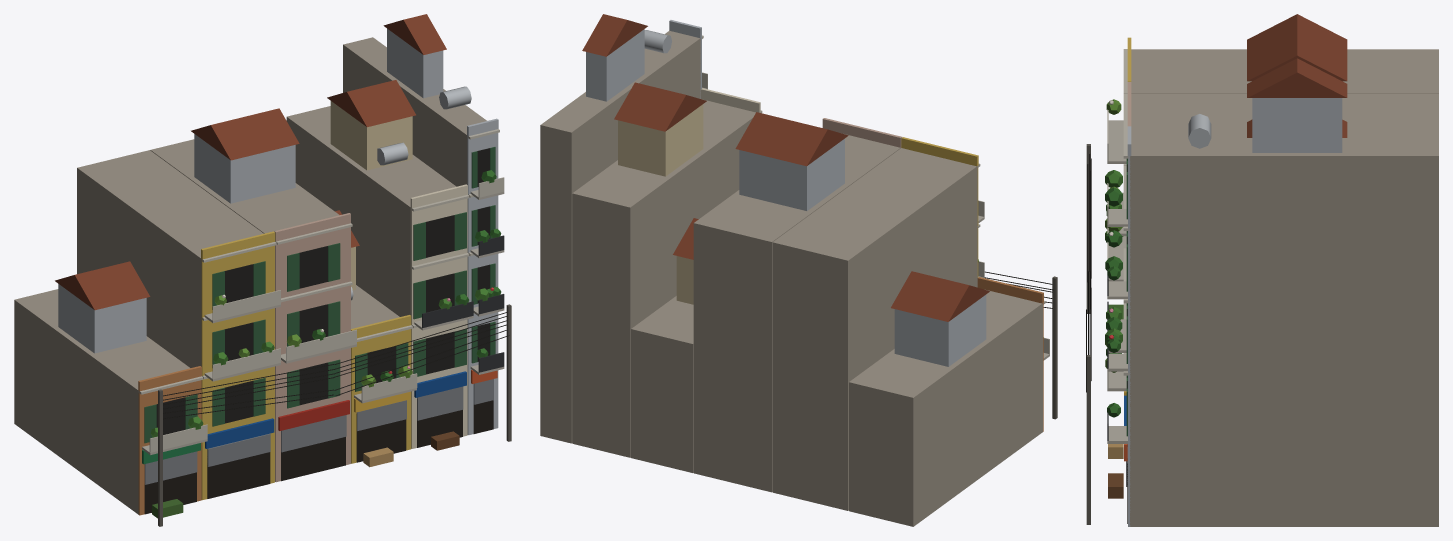
Rendered from hanoi_tube_houses_b.glb.
The picture shows the model from 3 angles, left to right: view 1: azimuth 30°, elevation 25°; view 2: azimuth 150°, elevation 25°; view 3: azimuth 270°, elevation 25°; orthographic projection. The views are drawn at different scales.
Visible parts, largest first — view 1: HanoiTubeHouses_mat0; view 2: HanoiTubeHouses_mat0; view 3: HanoiTubeHouses_mat0.
Boxes of the visible parts, x1,y1,x2,y2 form: HanoiTubeHouses_mat0: (14,14,511,526); HanoiTubeHouses_mat0: (540,14,1057,526); HanoiTubeHouses_mat0: (1086,14,1438,526).
Size of the model in its own units: 19.96 by 19.4 by 13.7.
